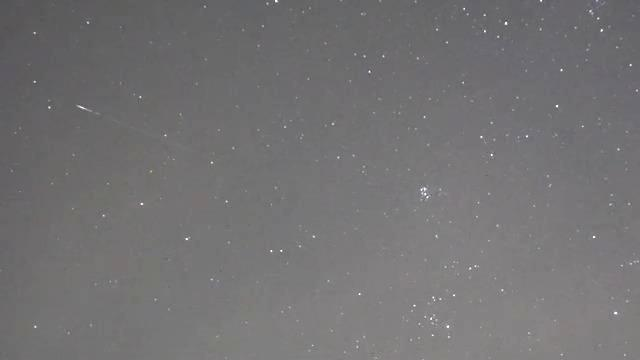meteorite: (68, 103, 145, 130)
